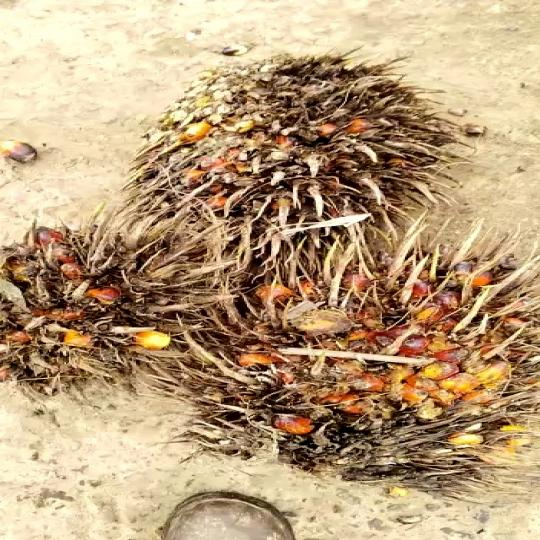terlalu masak: (158, 225, 540, 483), (121, 53, 468, 236), (0, 219, 201, 393)
